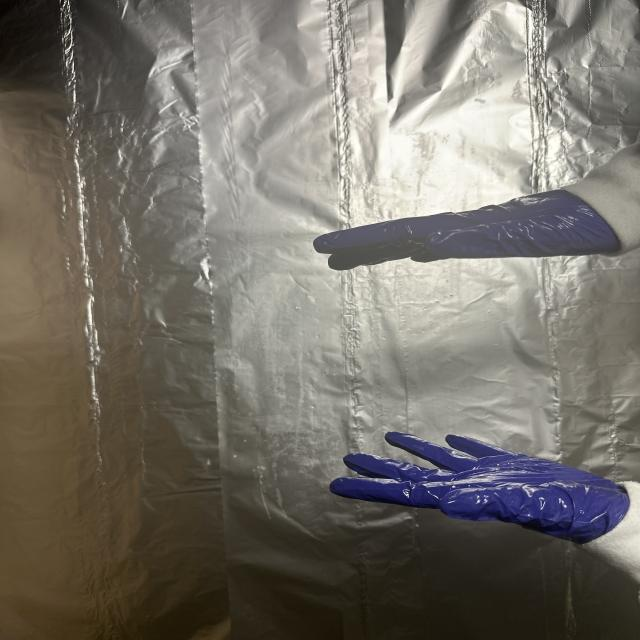gloves_contaminated: (330, 432, 630, 543), (314, 190, 620, 270)
